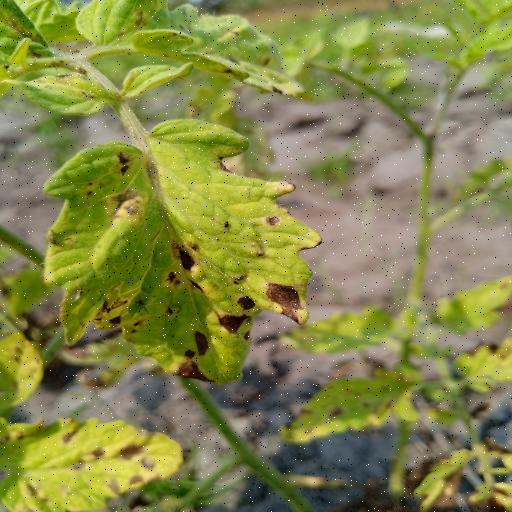Tomato_Brown_Spots: (32, 116, 326, 389)
